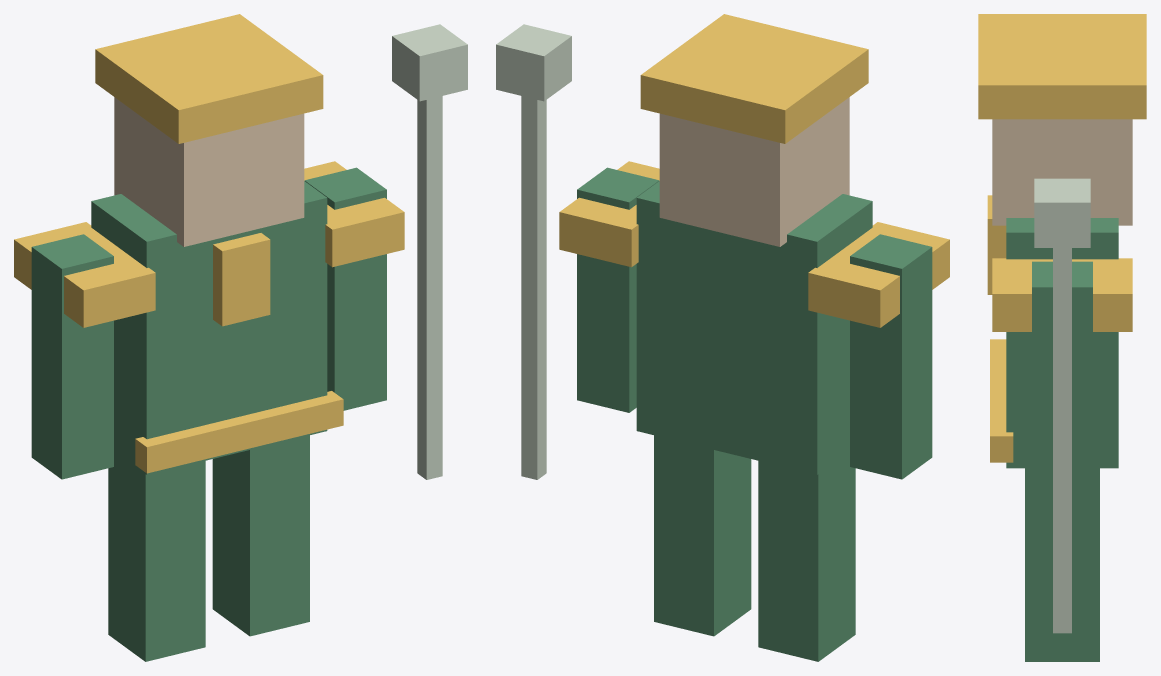
Rendered from 13_brant_holloway_navigator_from_listening.glb.
3 views of the same model, side by side, from view 1: azimuth 30°, elevation 25°; view 2: azimuth 150°, elevation 25°; view 3: azimuth 270°, elevation 25° (orthographic).
Visible parts, largest first — view 1: Brant Holloway, Navigator from Listening; view 2: Brant Holloway, Navigator from Listening; view 3: Brant Holloway, Navigator from Listening.
Boxes of the visible parts, bbox=[...] form: Brant Holloway, Navigator from Listening: bbox=[14, 14, 467, 661]; Brant Holloway, Navigator from Listening: bbox=[496, 14, 949, 661]; Brant Holloway, Navigator from Listening: bbox=[978, 14, 1146, 661].
Size of the model in its own units: 1.11 by 1.48 by 0.3952.
